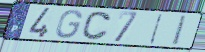4: (26, 7, 53, 39)
7: (113, 10, 139, 45)
C: (80, 10, 113, 41)
G: (54, 9, 84, 40)
I: (171, 14, 188, 47), (148, 13, 165, 46)
